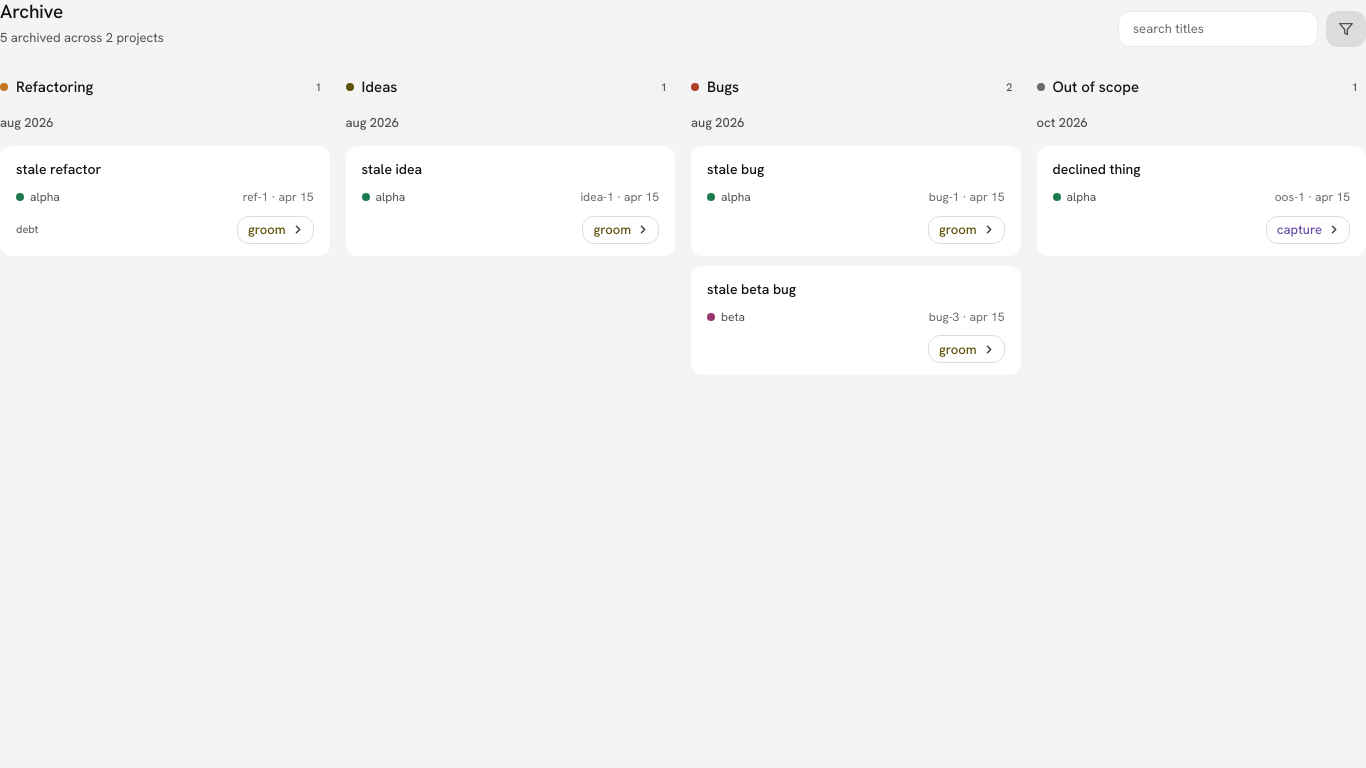
Scenario: ArchiveView › states the count across projects, and in the project once one is picked
Expected: the text "5 archived across 2 projects" is shown, [0,29,164,47]
What coordinates should you click on to do the following:
click the button named "Filters"
I would click on:
 (1346, 29)
Its box is [1329,14,1363,44].
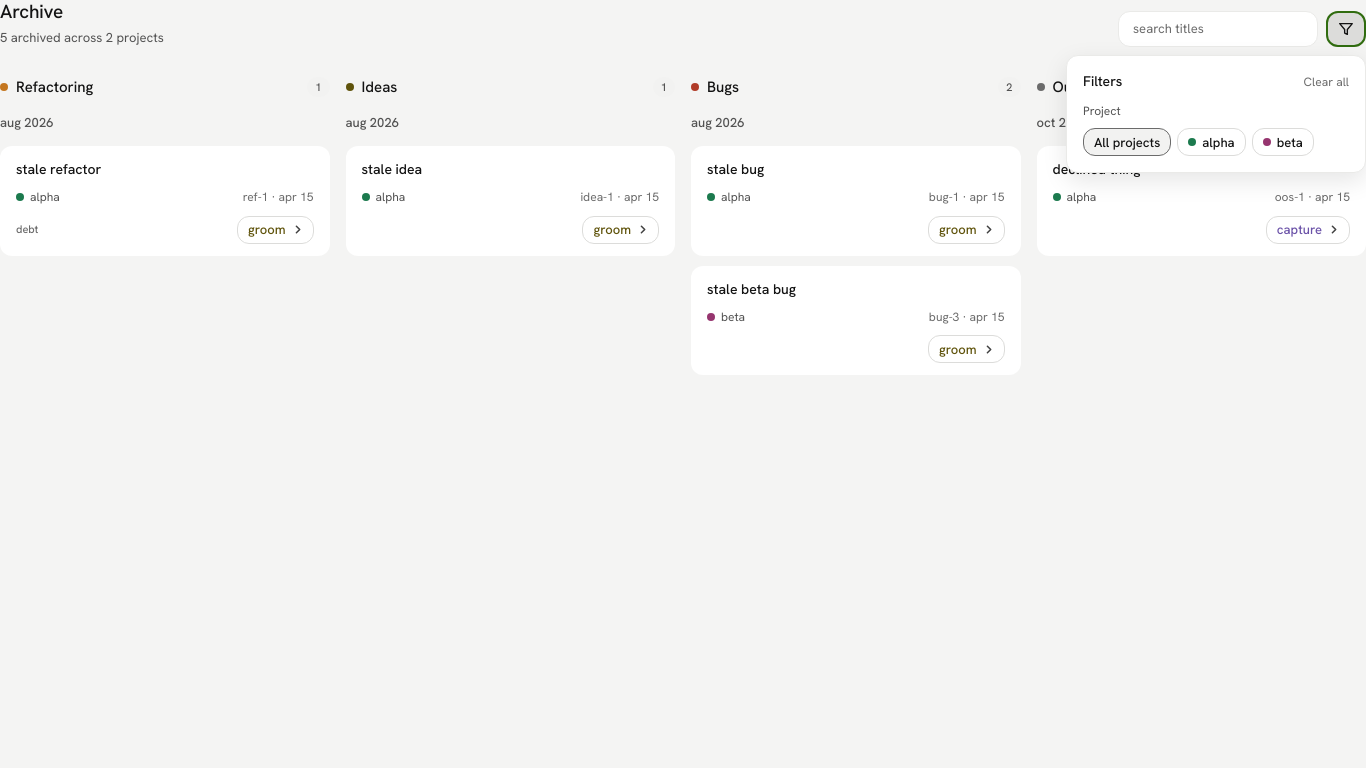
What coordinates should you click on to do the following:
click the button "alpha"
I would click on:
 (1212, 142)
Its box is [1177,128,1246,156].
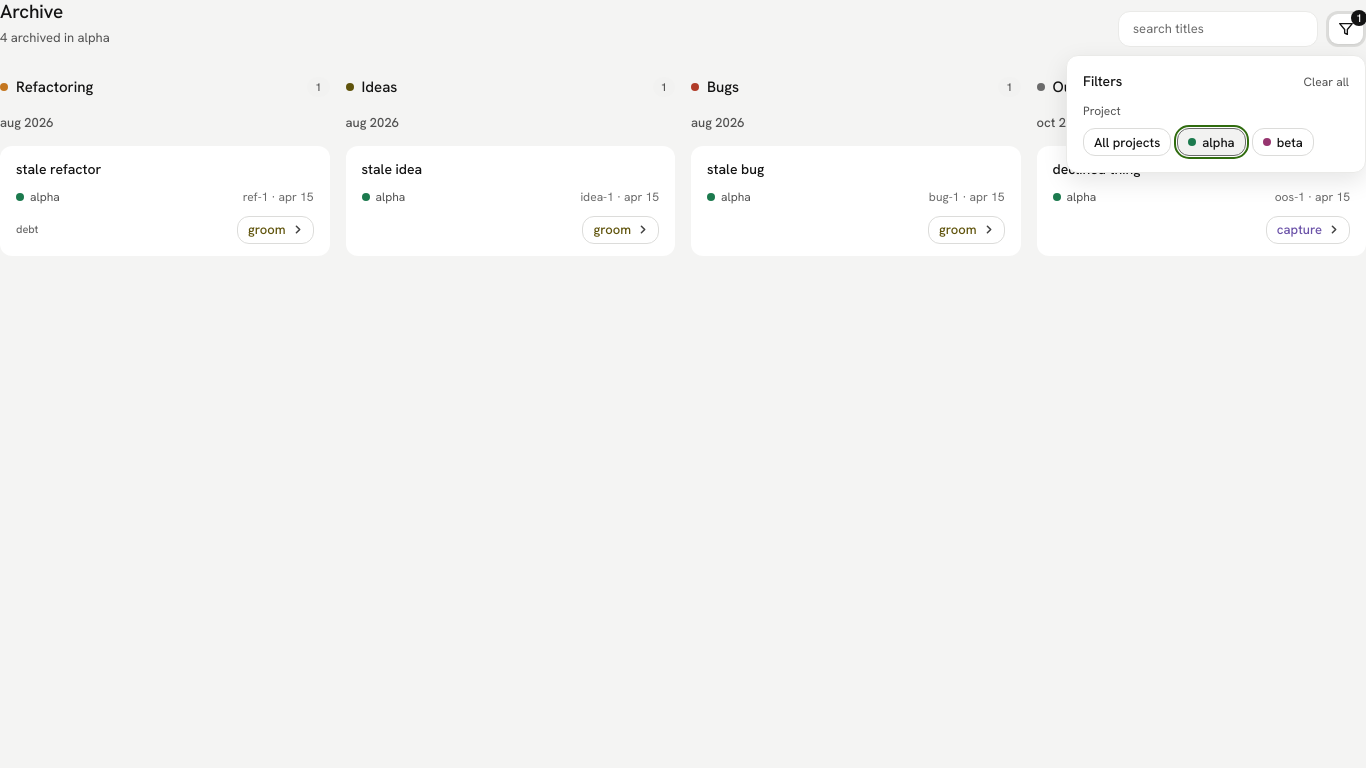
Expected: the text "4 archived in alpha" is shown, [0,29,110,47]
Expected: the button named "Filters, 1 set" is shown, [1329,14,1363,44]
